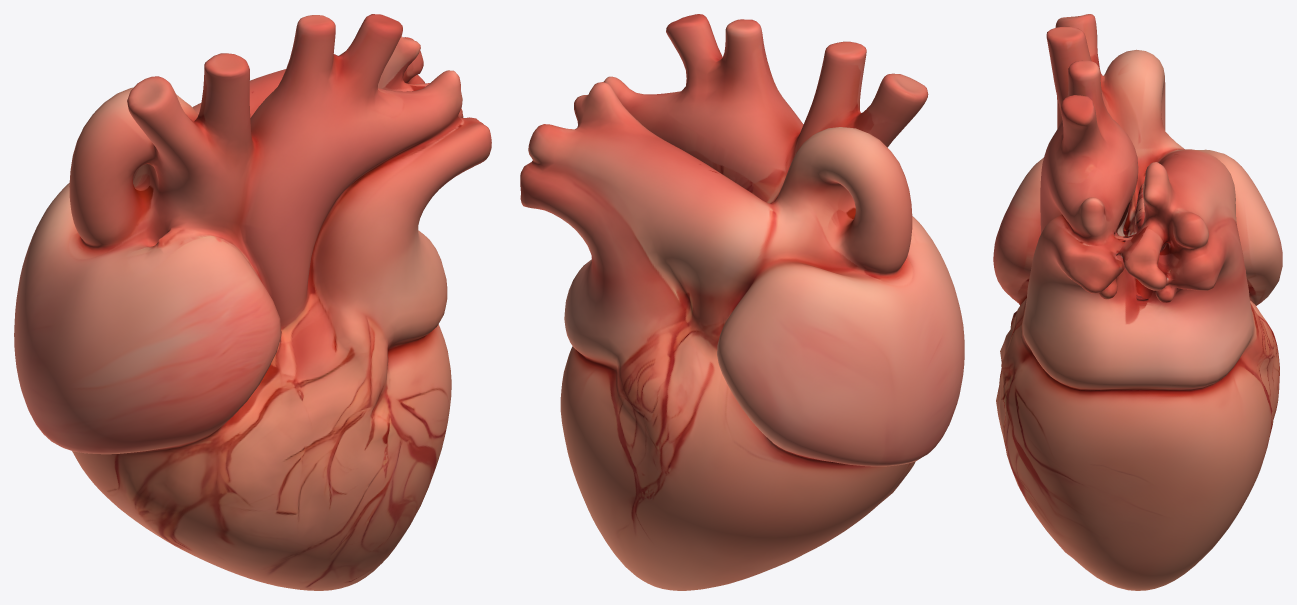
Rendered from human_heart_realistic_anatomical_model.glb.
The picture shows the model from 3 angles, left to right: view 1: azimuth 30°, elevation 25°; view 2: azimuth 150°, elevation 25°; view 3: azimuth 270°, elevation 25°; orthographic projection. The views are drawn at different scales.
Parts seen in each view (by area): view 1: Object_2; view 2: Object_2; view 3: Object_2.
Boxes of the visible parts, bbox=[...] form: Object_2: bbox=[14, 14, 491, 590]; Object_2: bbox=[520, 14, 964, 590]; Object_2: bbox=[993, 14, 1282, 590].
Size of the model in its own units: 1.15 by 1.51 by 0.7846.
1 material, 1 textured.
